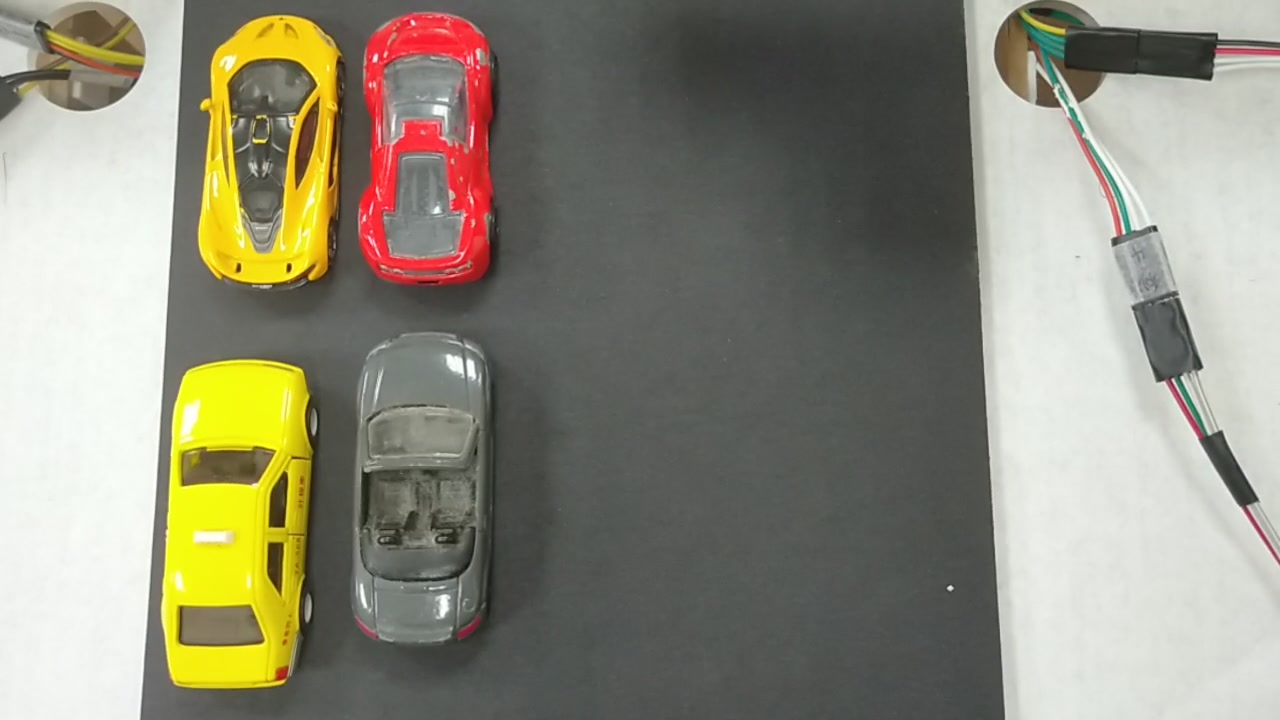car: (166, 355, 312, 686), (355, 326, 491, 642), (202, 17, 339, 285), (364, 12, 489, 284)
